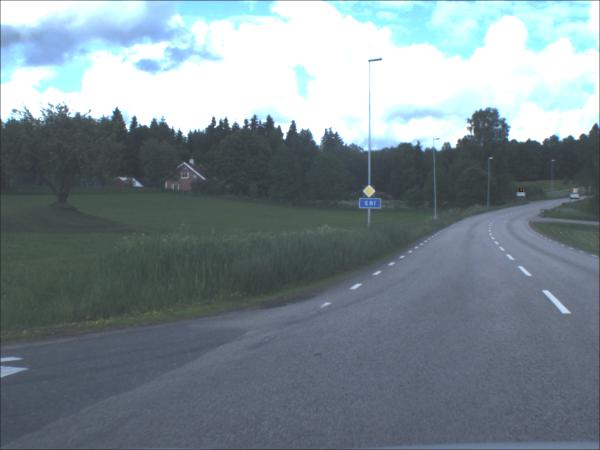80_SIGN: (573, 189, 579, 195), (519, 189, 524, 194)
PRIORITY_ROAD: (363, 186, 376, 199)
